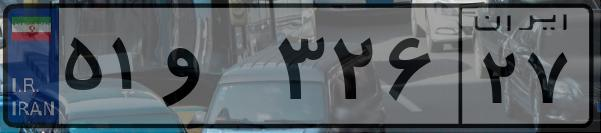1: (110, 28, 158, 98)
2: (330, 28, 385, 110), (475, 38, 525, 113)
3: (270, 28, 330, 110)
5: (57, 26, 110, 100)
6: (385, 28, 445, 110)
7: (525, 38, 570, 115)
و: (158, 20, 270, 120)
